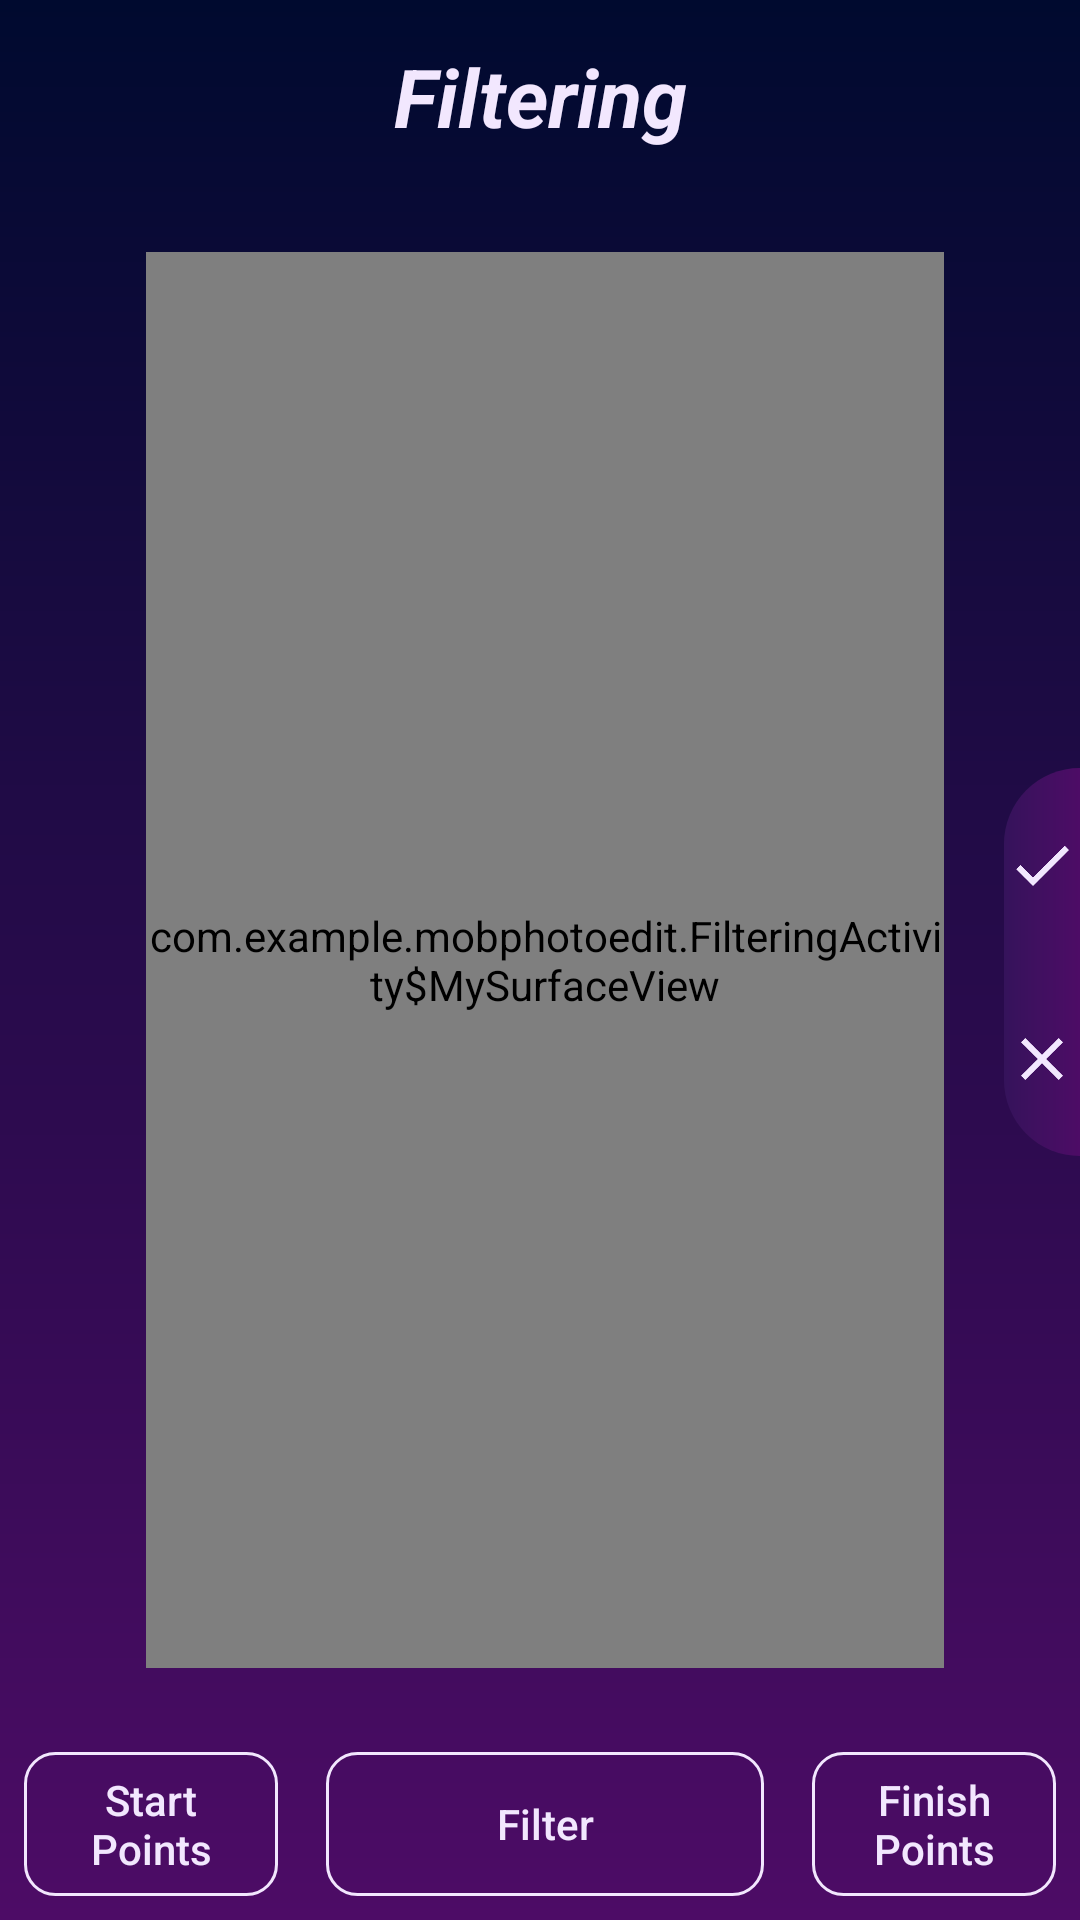

Point at icon controls on the screen. Image size 1080×1920, points as (x,y).
check: (1048,864)
clear: (1050,1058)
